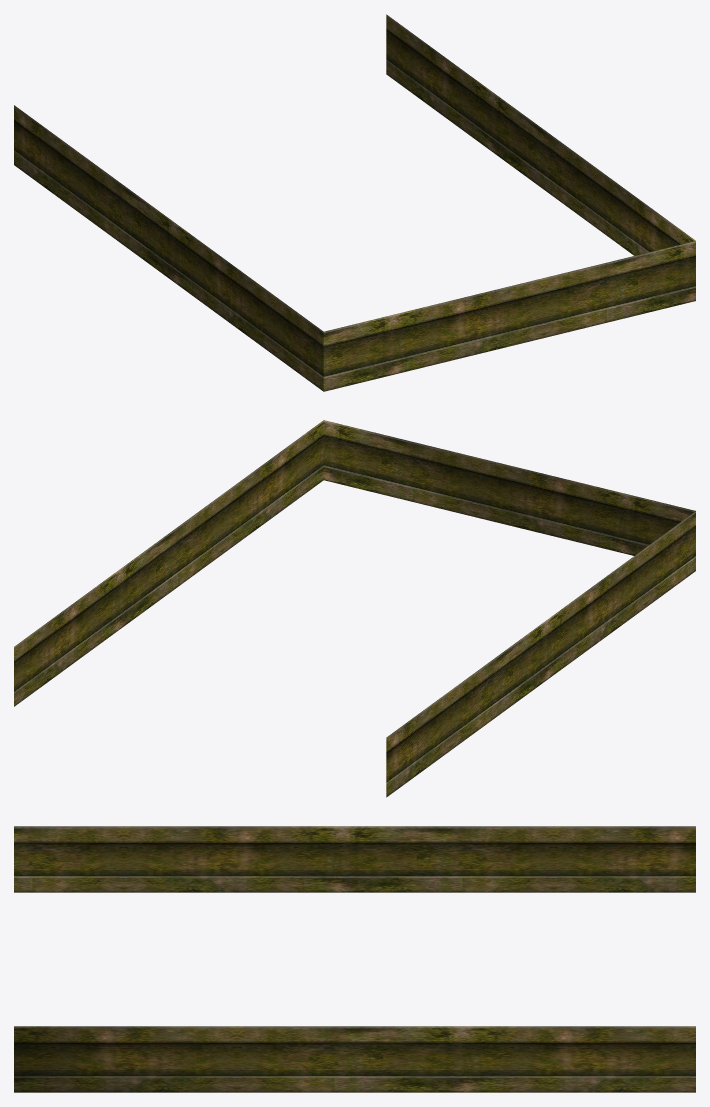
The model's file is OVERHILL_A_01_OBJECT140.fbx.
3 views of the same model, one above another, from view 1: azimuth 30°, elevation 25°; view 2: azimuth 150°, elevation 25°; view 3: azimuth 270°, elevation 25° (orthographic). The views are drawn at different scales.
Parts seen in each view (by area): view 1: OVERHILL_A_01_OBJECT140; view 2: OVERHILL_A_01_OBJECT140; view 3: OVERHILL_A_01_OBJECT140.
Boxes of the visible parts, left/top/right/bottom form: OVERHILL_A_01_OBJECT140: left=14, top=14, right=695, bottom=391; OVERHILL_A_01_OBJECT140: left=14, top=420, right=695, bottom=797; OVERHILL_A_01_OBJECT140: left=14, top=826, right=695, bottom=1092.
Bounding box in the file's own units: 34680 × 5356 × 50000.
Materials: 1 (1 with a texture image).
